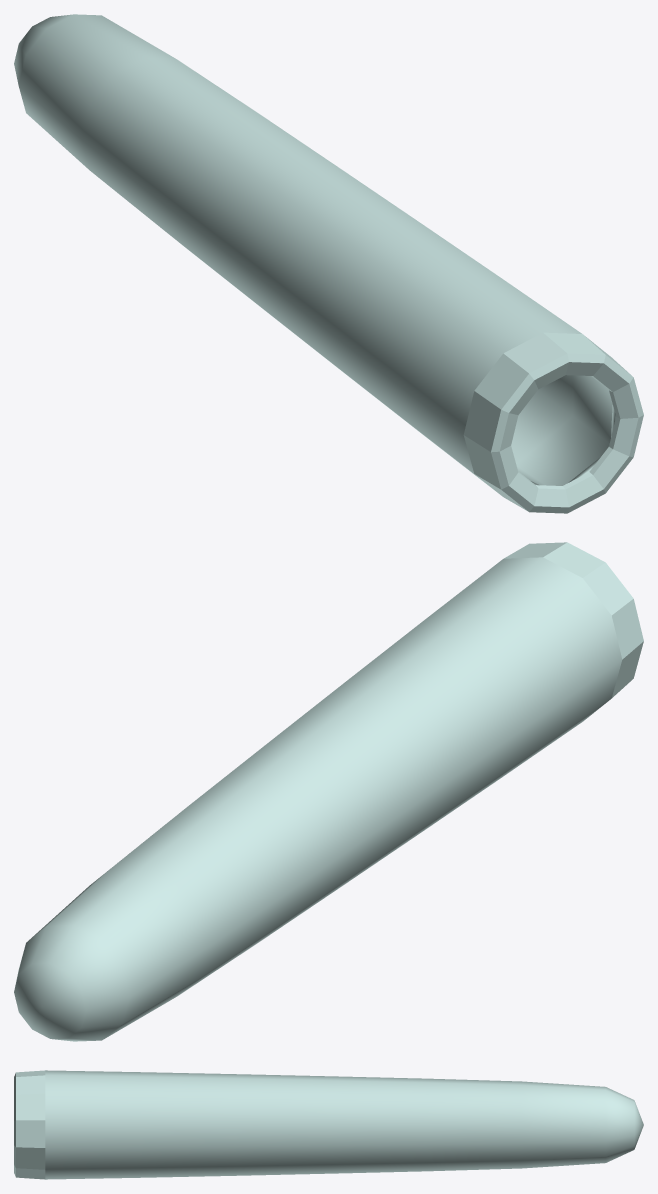
Rendered from pyrosome_lo.glb.
The picture shows the model from 3 angles, top to bottom: view 1: azimuth 30°, elevation 25°; view 2: azimuth 150°, elevation 25°; view 3: azimuth 270°, elevation 25°; orthographic projection. The views are drawn at different scales.
Parts seen in each view (by area): view 1: pyrosome_lo; view 2: pyrosome_lo; view 3: pyrosome_lo.
Part boxes in pixels (x1,y1,x2,y2): pyrosome_lo: (14,14,643,513); pyrosome_lo: (14,542,643,1041); pyrosome_lo: (14,1070,643,1179).
Bounding box in the file's own units: 0.3482 × 0.3482 × 2.
